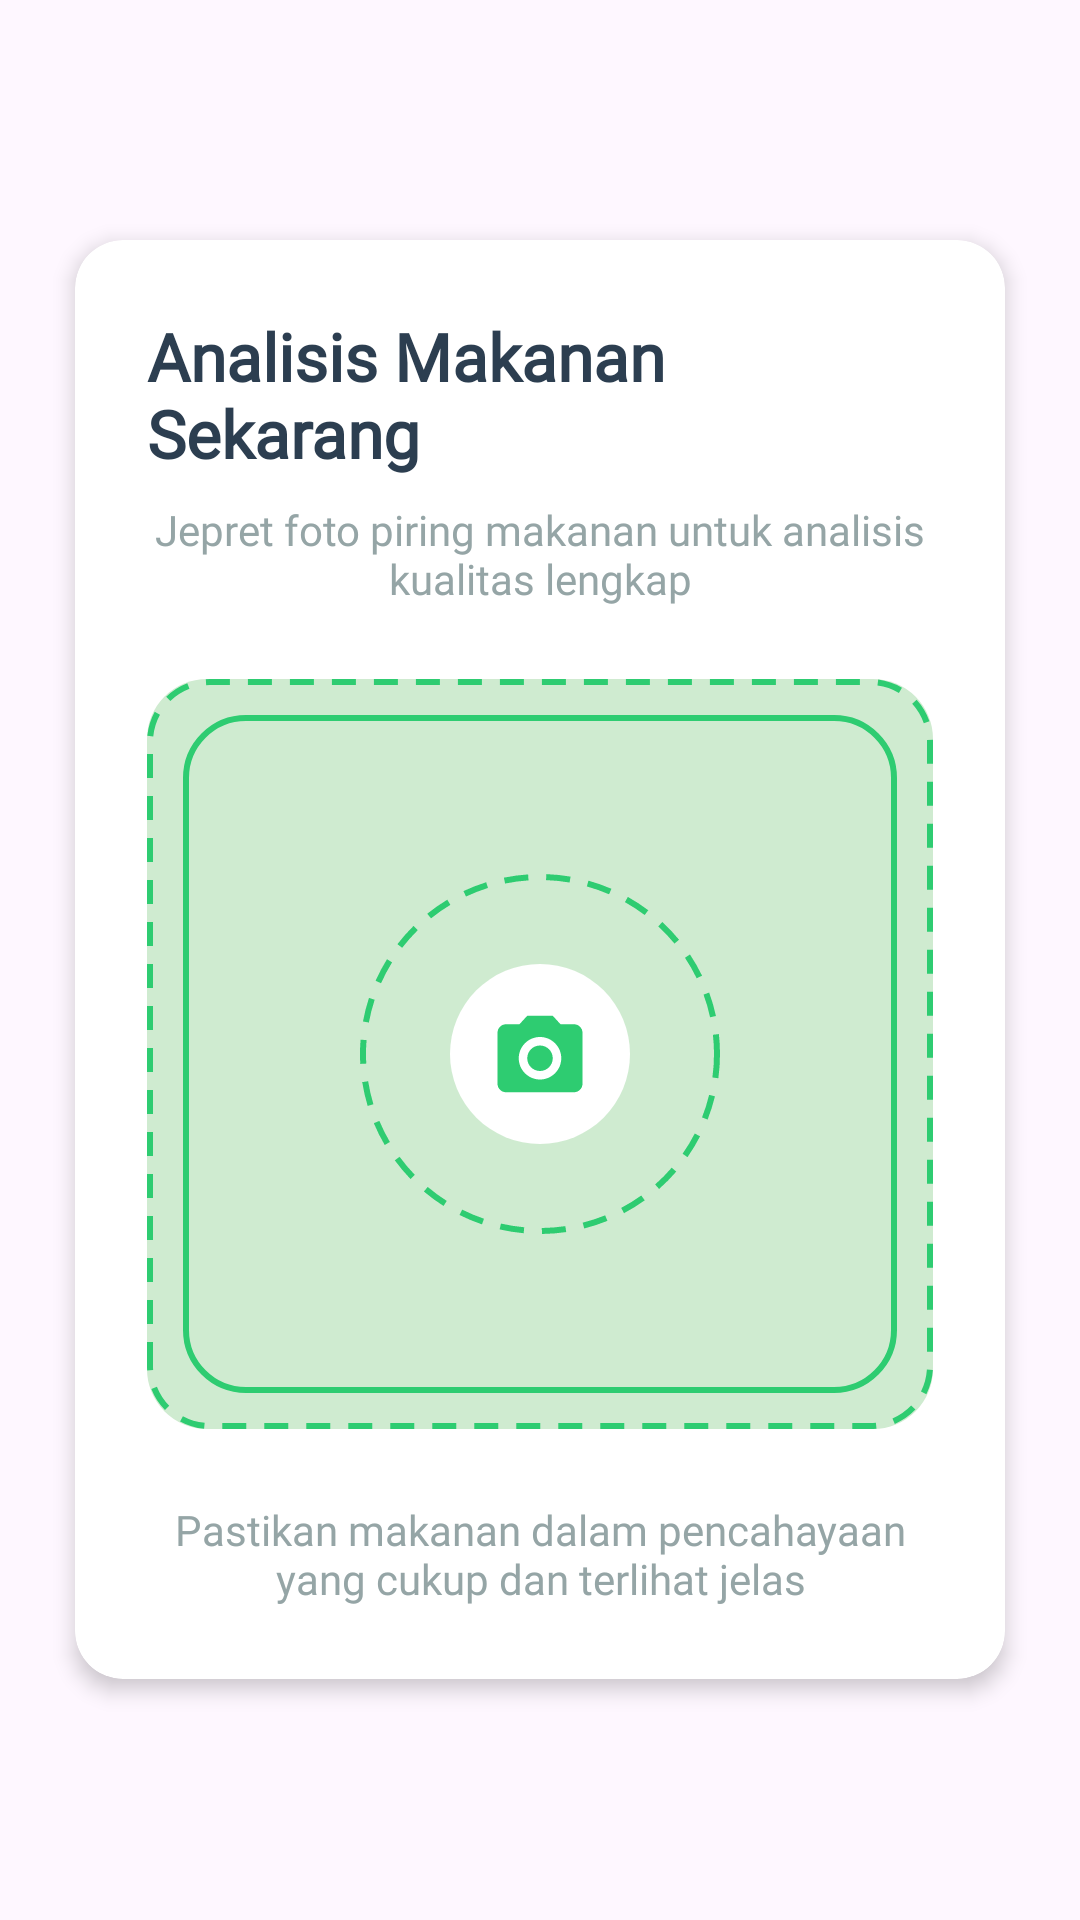

Named icons in this screenshot (1080px×1920px) and their centers, point (x, y):
camera circle: point (540, 1054)
